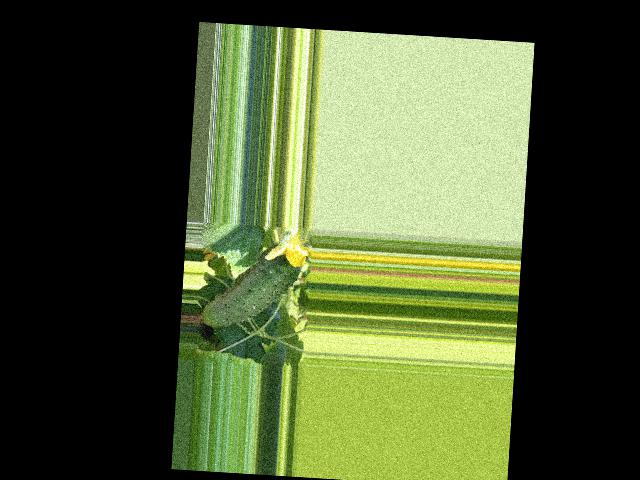cucumber: (195, 239, 302, 333)
